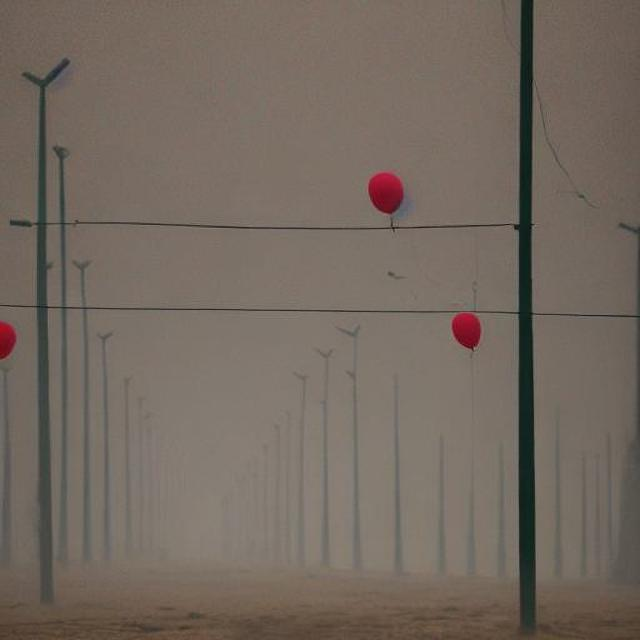balloon: (361, 168, 409, 220), (447, 308, 483, 354)
